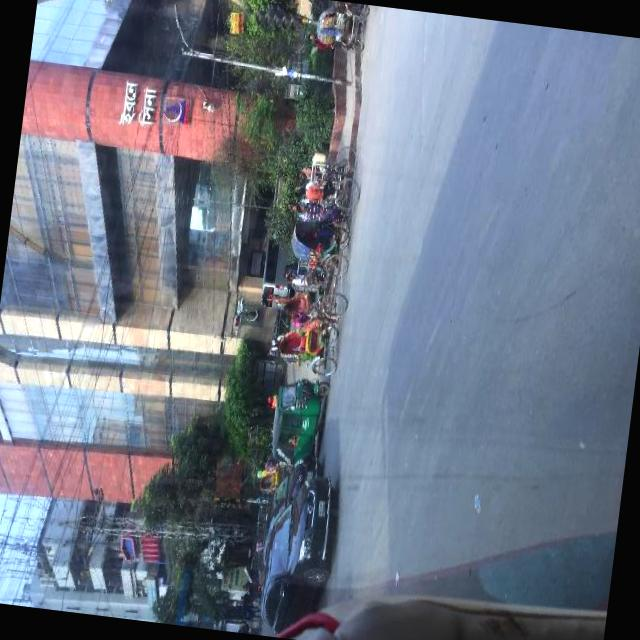car: (256, 470, 340, 639), (266, 448, 320, 532)
motorcycle: (286, 172, 360, 278), (274, 286, 348, 379), (267, 374, 330, 469), (312, 0, 369, 54), (282, 261, 332, 322), (320, 144, 358, 206), (256, 458, 286, 496), (243, 624, 260, 635)
truck: (254, 223, 297, 312)
